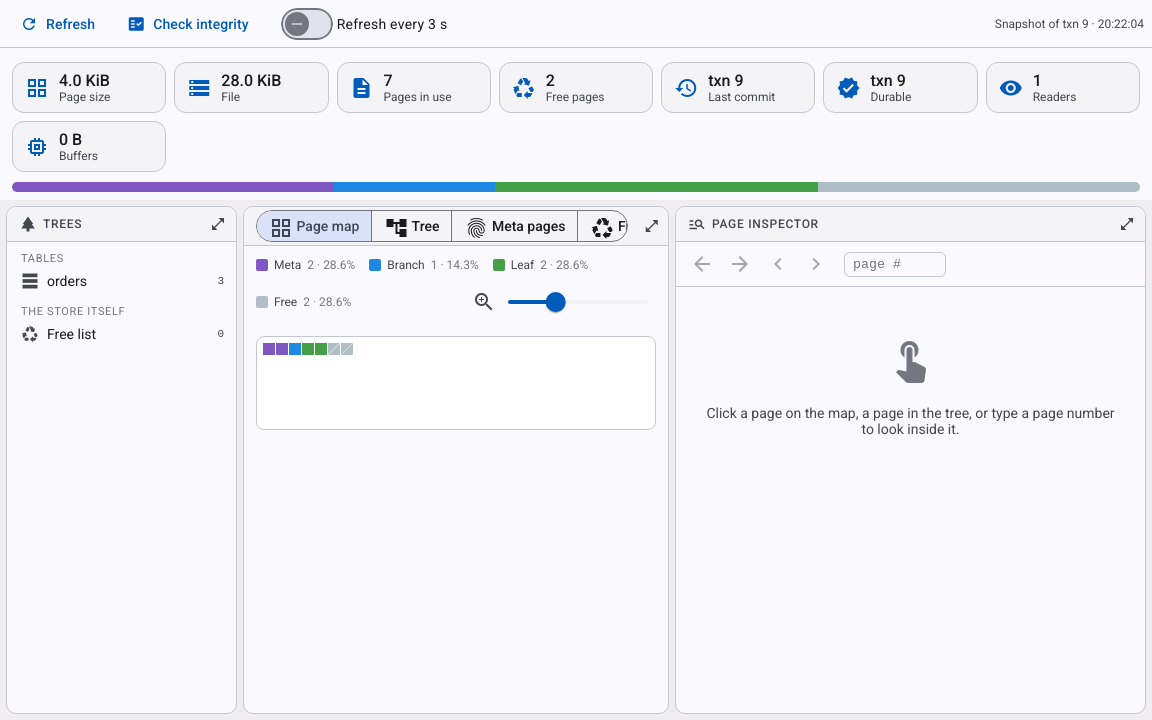
Scenario: VisualizeComponent › takes a leaf apart: items, decoded rows and a failed hash
Click the button with class "tree-item" showing "orders 3".
click(122, 281)  # box [7,267,236,295]
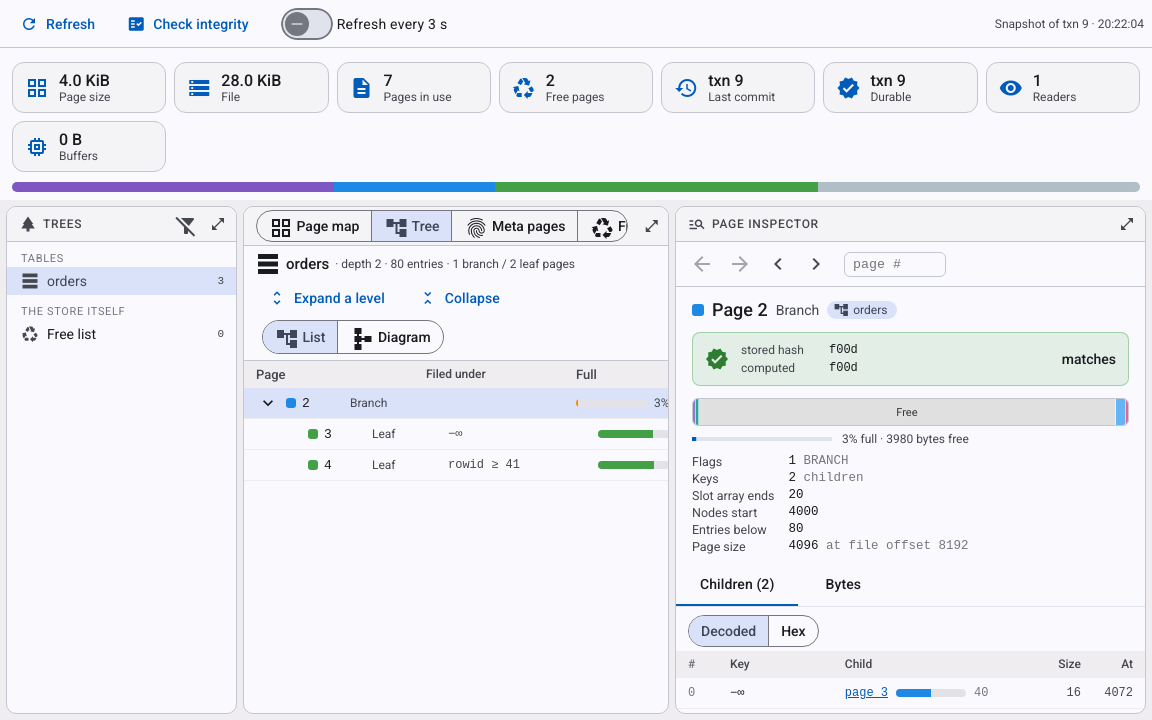
Click the list item "3 Leaf −∞ 76% 40".
click(456, 435)  # box [244,419,668,450]
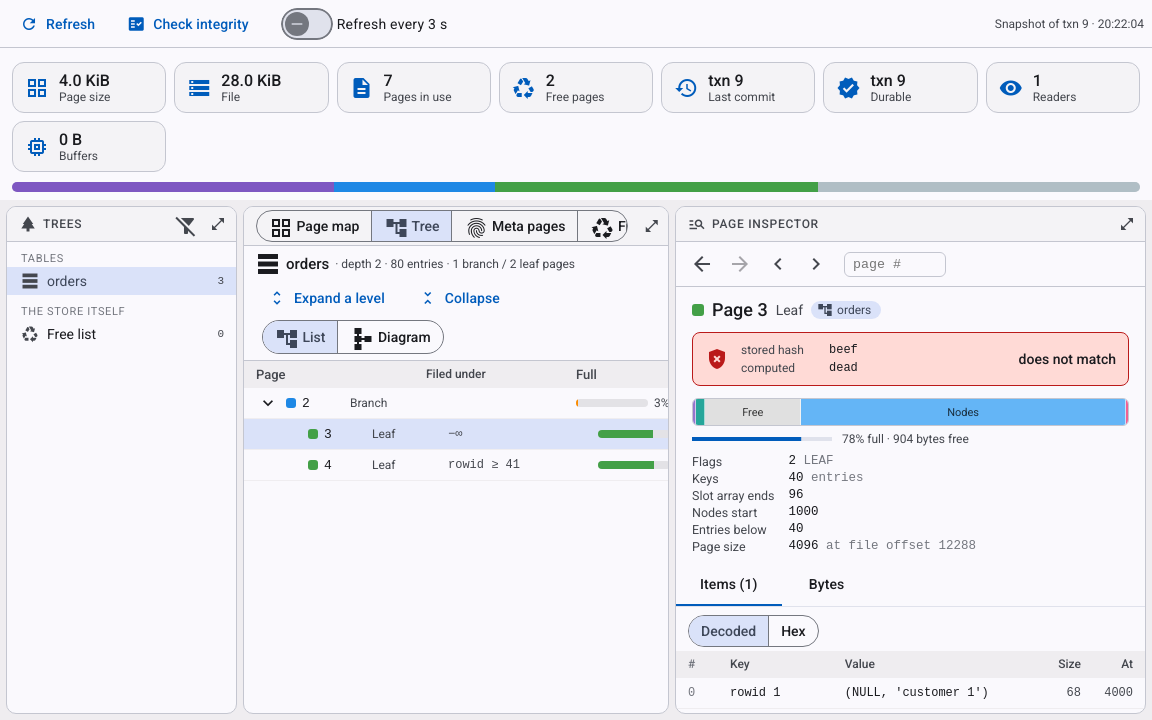
expect the heading "Page 3" is shown: met, box [712,299,768,320]
expect the element with class "hash" shows "does not match": met, box [1019,351,1116,367]
